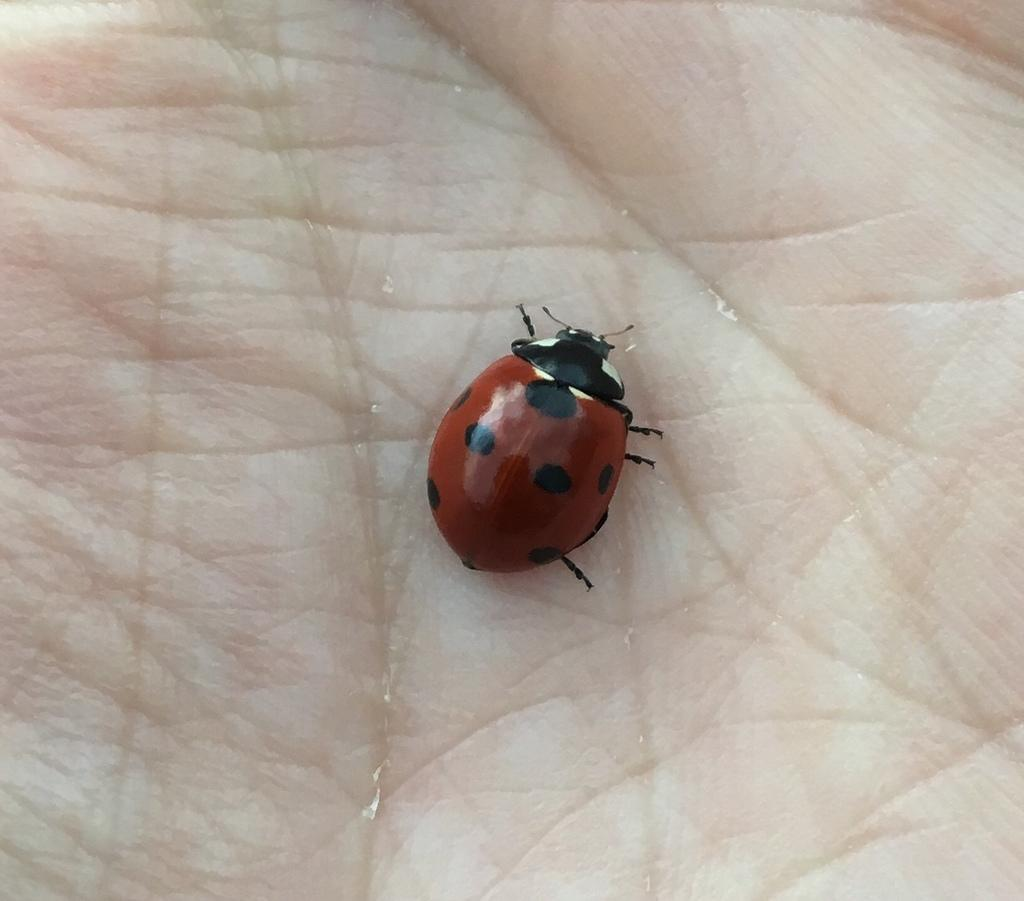ladybug: (424, 299, 671, 596)
